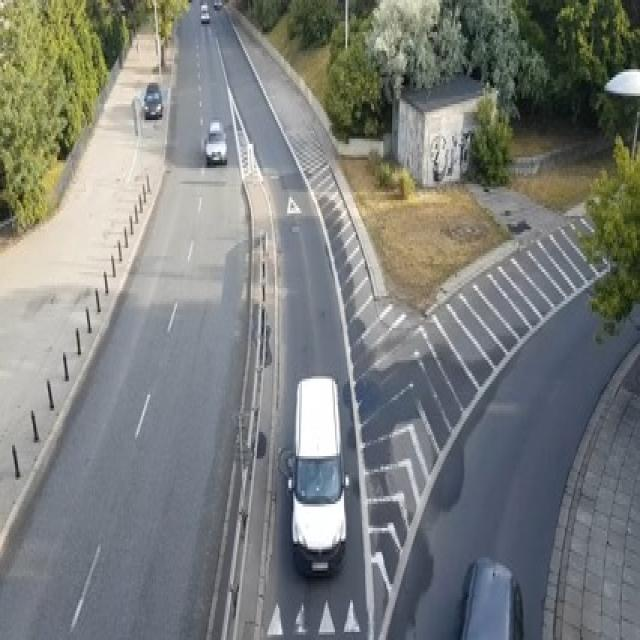car: (278, 373, 348, 579), (203, 120, 227, 165), (143, 83, 162, 117), (200, 3, 209, 21), (214, 0, 222, 8)
